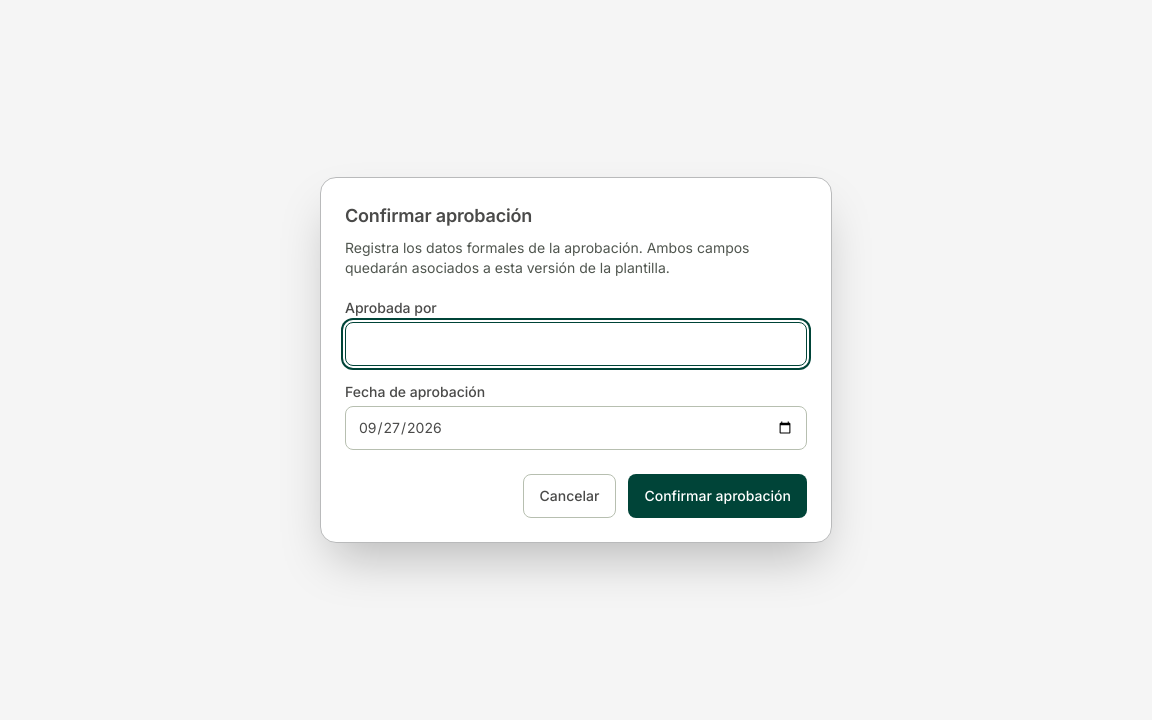
TemplateApprovalDialog › exige ambos campos, anuncia los errores y enfoca el primero
Clear the date field labelled "Fecha de aprobación" at coordinates (576, 428), box left=345, top=406, right=807, bottom=450
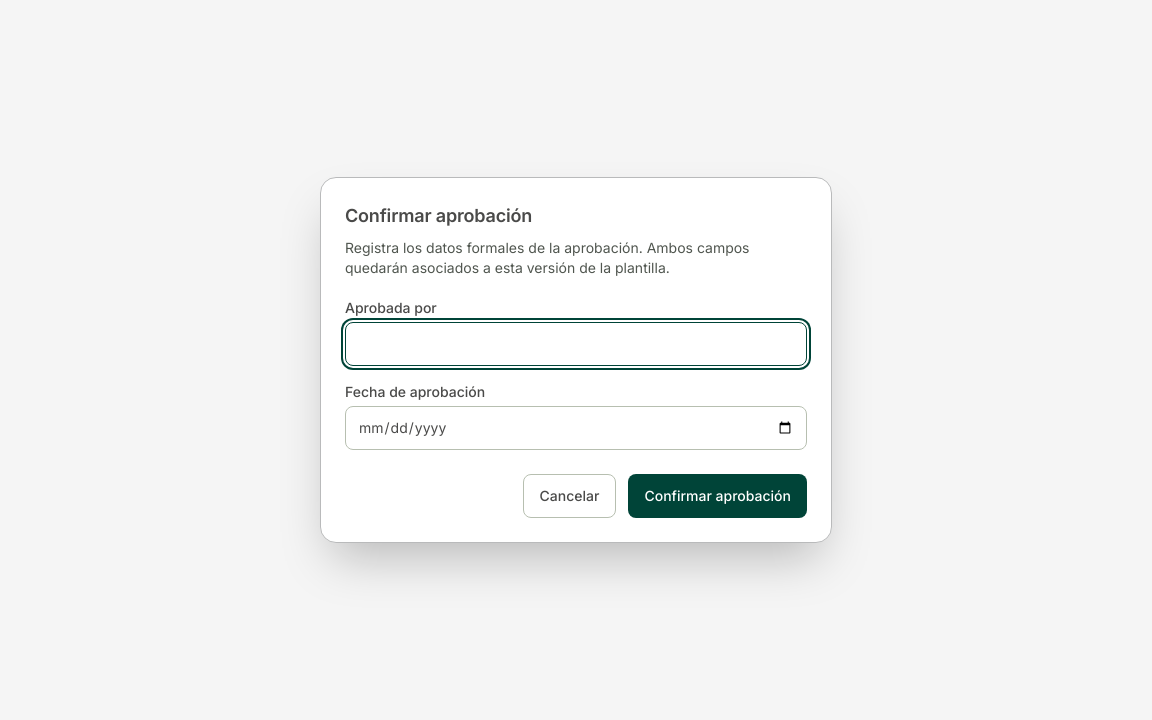
Click the button "Confirmar aprobación" at coordinates (718, 496), box left=628, top=474, right=807, bottom=518
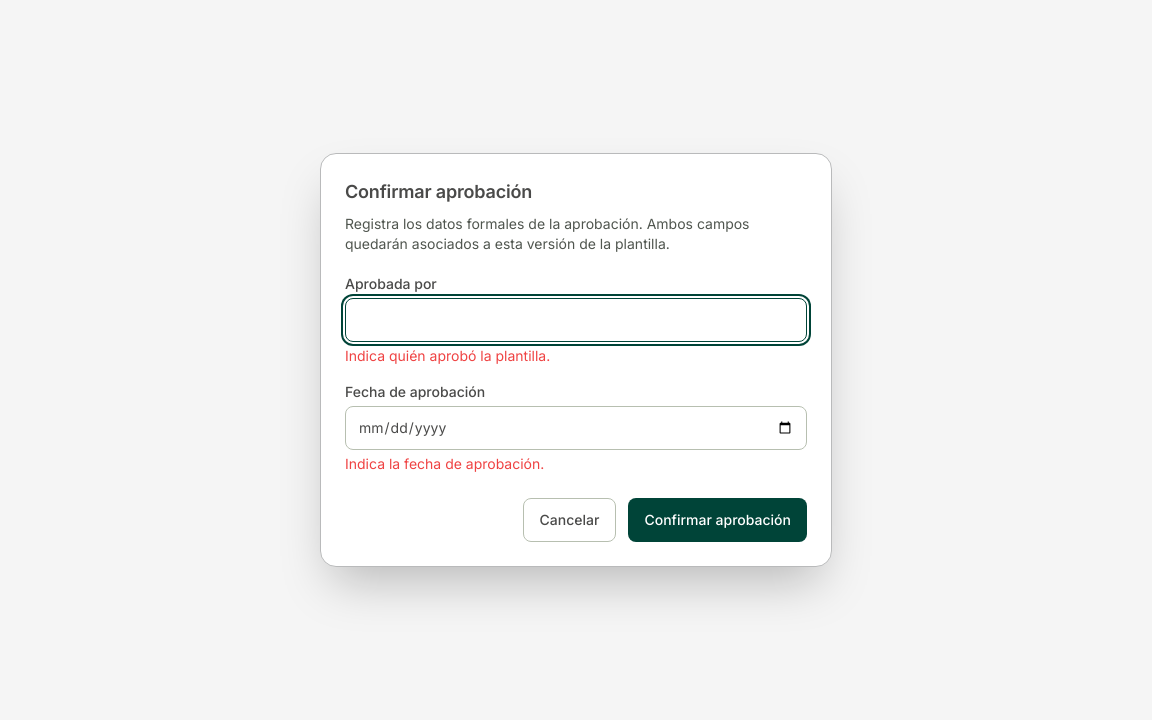
Result: the number of messages is 2 at left=345, top=347, right=550, bottom=364; left=345, top=455, right=544, bottom=472
